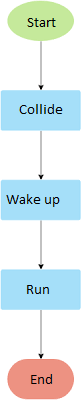arrow: (36, 39, 48, 92), (35, 131, 47, 181), (36, 218, 45, 269), (36, 311, 45, 360)
process: (1, 267, 82, 312), (1, 88, 82, 132), (1, 179, 82, 222)
terminator: (5, 358, 76, 400), (5, 1, 74, 43)
text: (3, 193, 63, 207), (15, 103, 64, 115), (25, 16, 58, 29), (30, 372, 55, 386), (25, 284, 51, 296)
